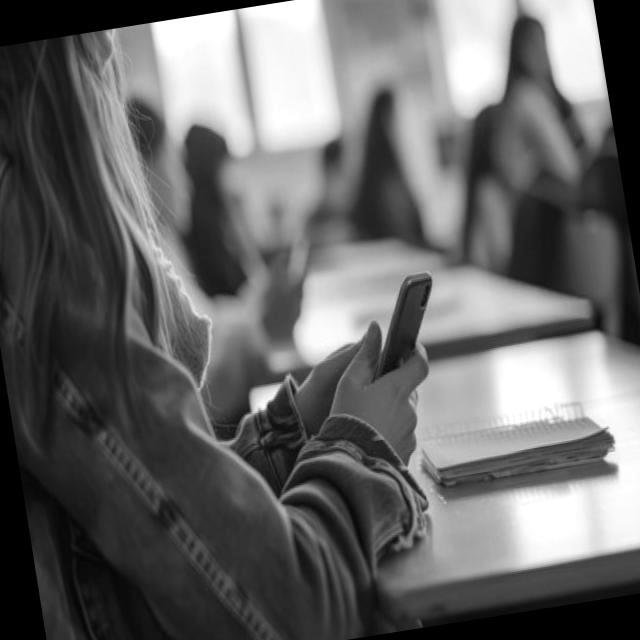phone: (356, 270, 448, 384)
